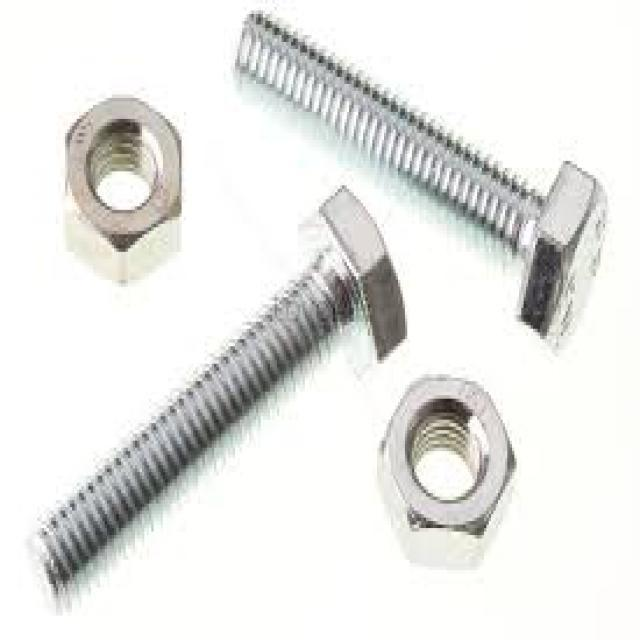bolt: (33, 190, 409, 586), (235, 10, 596, 351)
nut: (383, 372, 517, 566), (66, 97, 183, 285)
